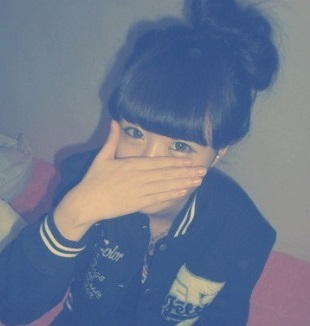face: (106, 71, 216, 217)
